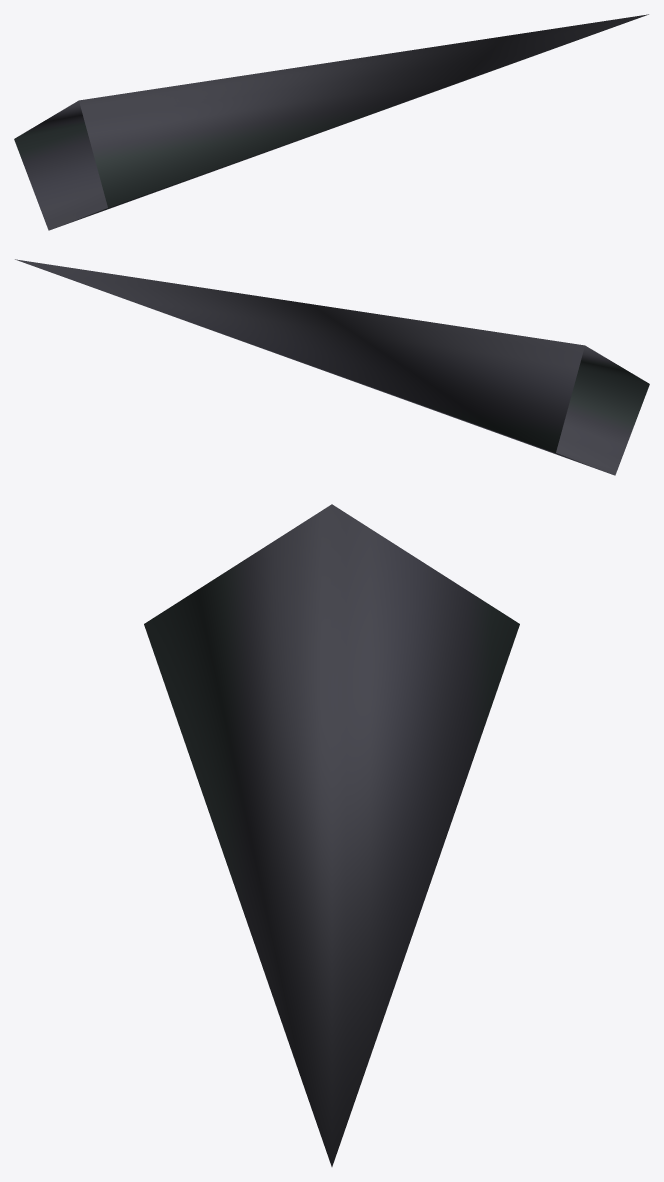
Rendered from shaft_race_LRe.dae.
3 renders of one model, top to bottom at view 1: azimuth 30°, elevation 25°; view 2: azimuth 150°, elevation 25°; view 3: azimuth 270°, elevation 25°, orthographic. The views are drawn at different scales.
Parts seen in each view (by area): view 1: shaft_race_LRe; view 2: shaft_race_LRe; view 3: shaft_race_LRe.
Part boxes in pixels (x1,y1,x2,y2): shaft_race_LRe: [14, 14, 648, 230]; shaft_race_LRe: [15, 259, 649, 475]; shaft_race_LRe: [144, 504, 519, 1166].
Size of the model in its own units: 6.67 by 1.3 by 1.81.
Materials: 1 (1 with a texture image).
